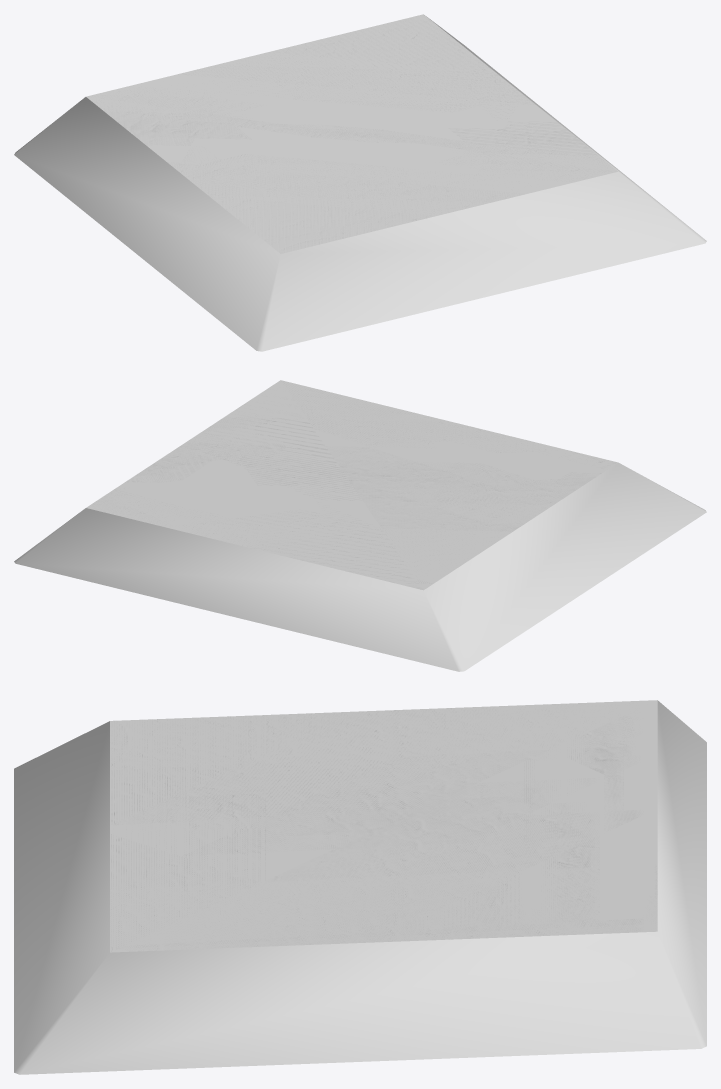
Rendered from original-19.obj.
The picture shows the model from 3 angles, top to bottom: view 1: azimuth 30°, elevation 25°; view 2: azimuth 150°, elevation 25°; view 3: azimuth 270°, elevation 25°; orthographic projection. The views are drawn at different scales.
Visible parts, largest first — view 1: Group19/mesh17/mesh17-geometry#mesh17-geometry; view 2: Group19/mesh17/mesh17-geometry#mesh17-geometry; view 3: Group19/mesh17/mesh17-geometry#mesh17-geometry.
Part boxes in pixels (left/top/right/bottom): Group19/mesh17/mesh17-geometry#mesh17-geometry: left=14, top=14, right=706, bottom=351; Group19/mesh17/mesh17-geometry#mesh17-geometry: left=14, top=380, right=706, bottom=671; Group19/mesh17/mesh17-geometry#mesh17-geometry: left=14, top=700, right=706, bottom=1074.
Bounding box in the file's own units: 0.0754 × 0.0119 × 0.0715.
